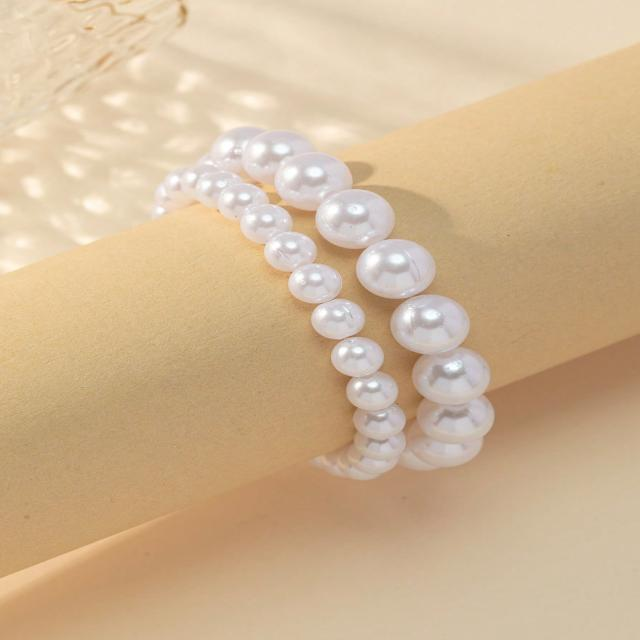bracelet: (138, 73, 546, 560)
